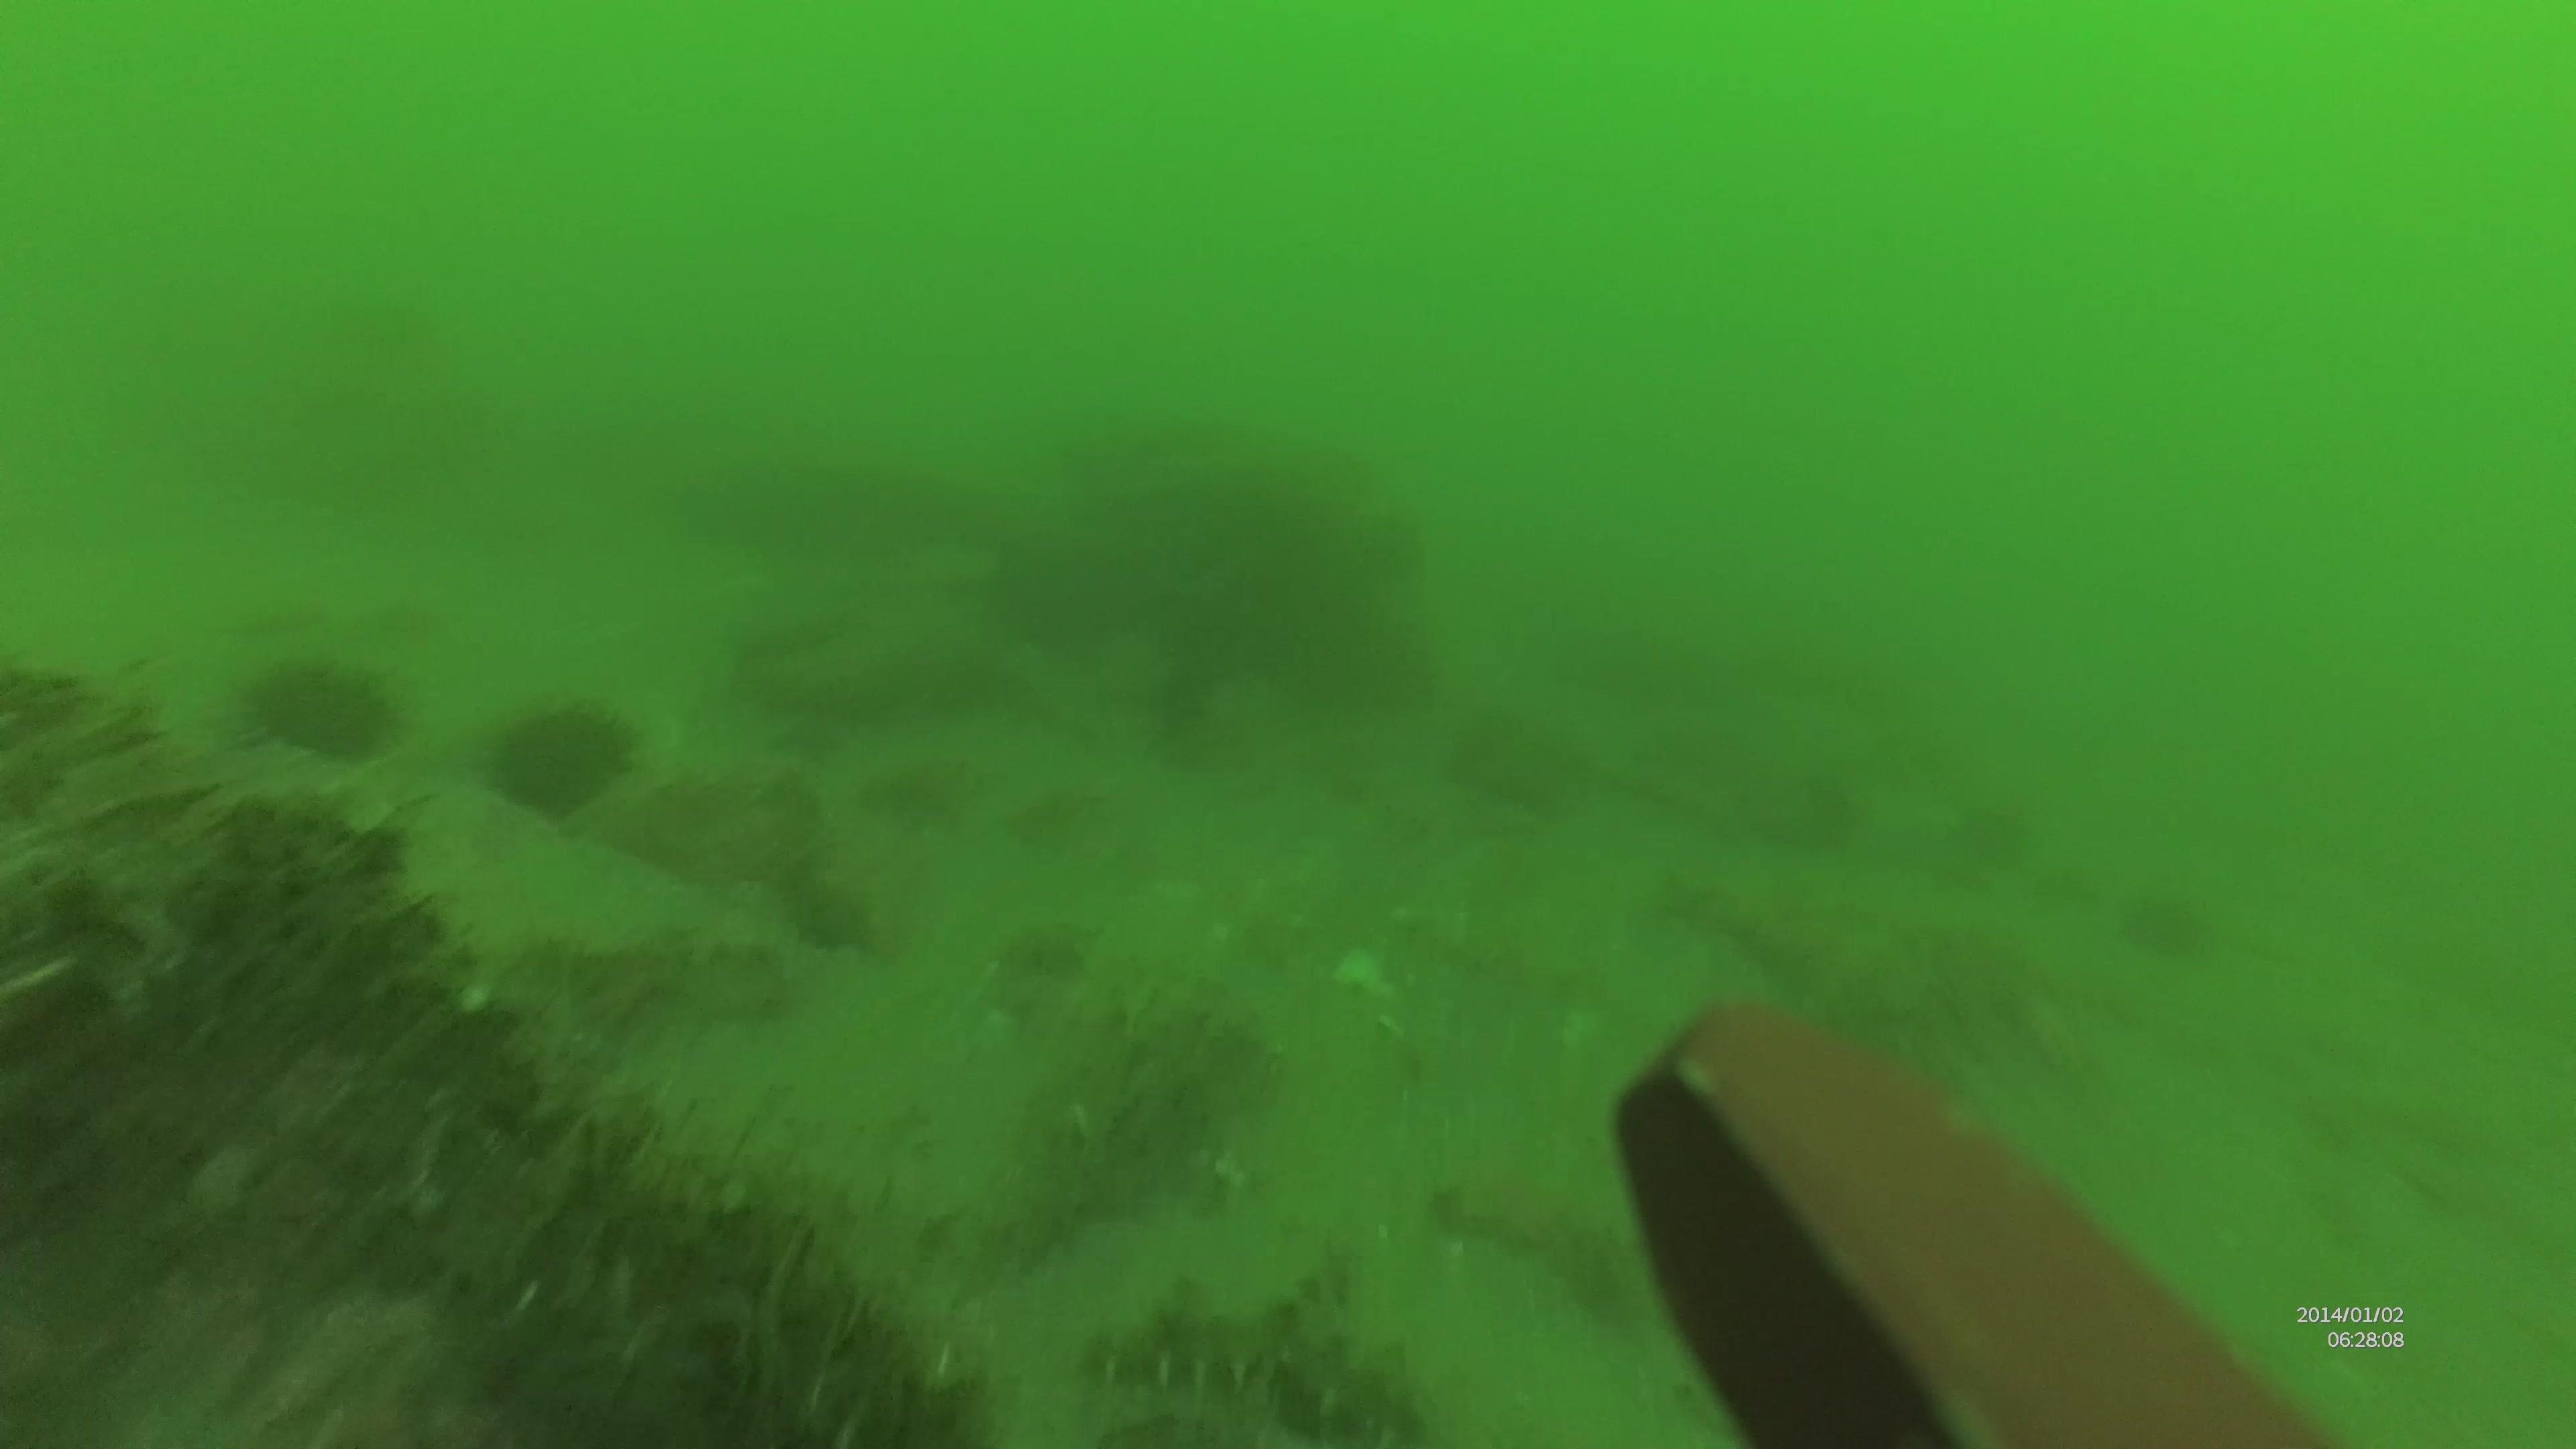echinus: (237, 658, 410, 773), (492, 701, 646, 826)
holothurian: (1093, 1277, 1454, 1449)
